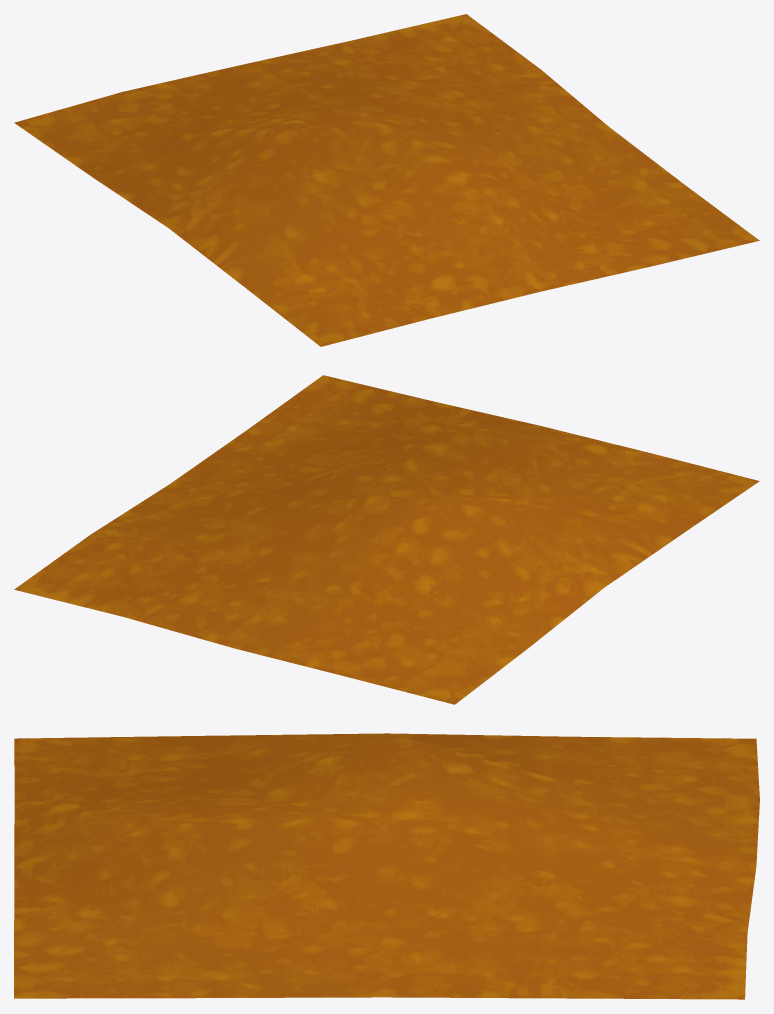
File: fruitPile_EMBED.fbx
The picture shows the model from 3 angles, top to bottom: view 1: azimuth 30°, elevation 25°; view 2: azimuth 150°, elevation 25°; view 3: azimuth 270°, elevation 25°; orthographic projection. The views are drawn at different scales.
Visible parts, largest first — view 1: Plane; view 2: Plane; view 3: Plane.
Part boxes in pixels (<box>): Plane: <box>14,14,759,346</box>; Plane: <box>14,375,759,704</box>; Plane: <box>14,733,759,999</box>.
Bounding box in the file's own units: 1069 × 147 × 1274.
Materials: 1 (1 with a texture image).
